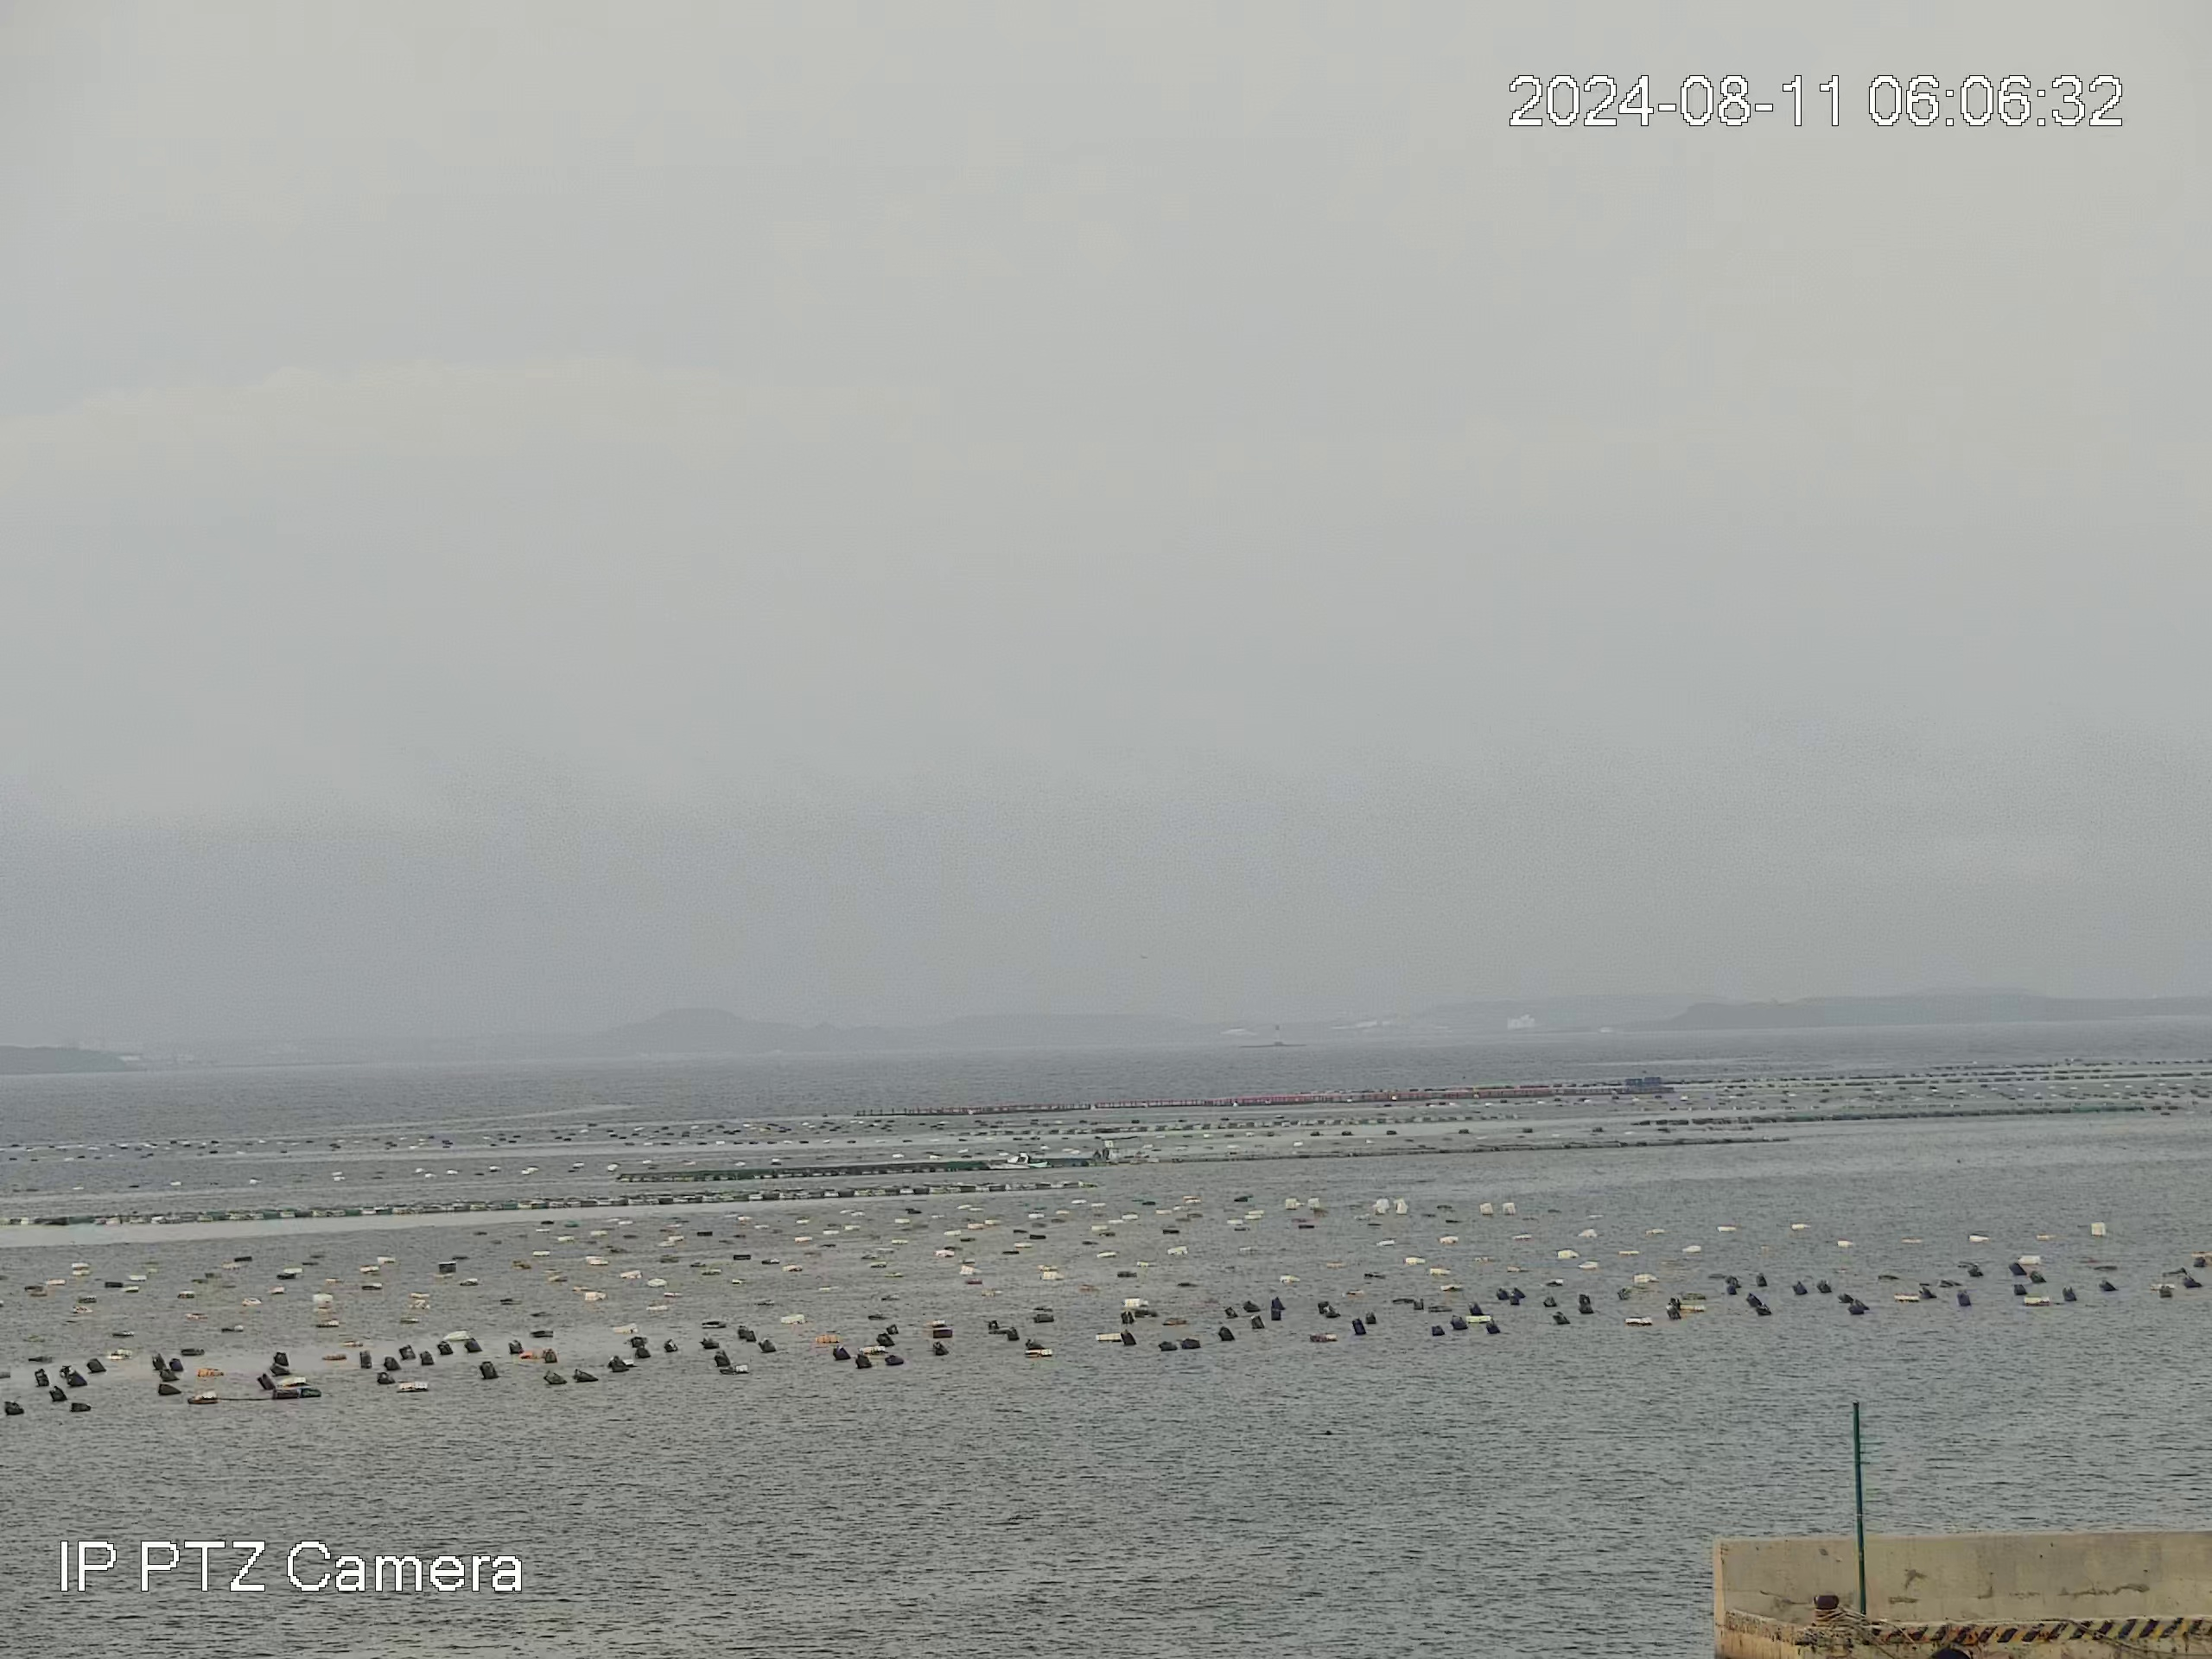boat: (982, 1150, 1049, 1171)
